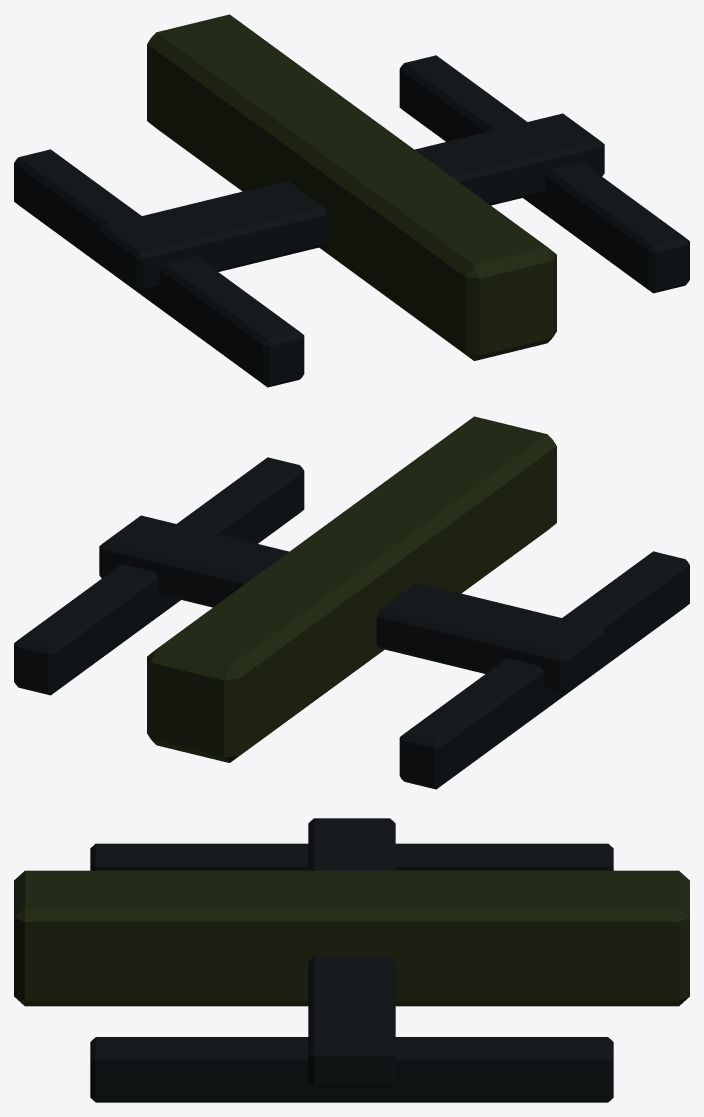
File: BombRackTriple__Rack.obj
The picture shows the model from 3 angles, top to bottom: view 1: azimuth 30°, elevation 25°; view 2: azimuth 150°, elevation 25°; view 3: azimuth 270°, elevation 25°; orthographic projection. The views are drawn at different scales.
Parts seen in each view (by area): view 1: Rack_spine, Release_cross_arm, Release_station_longitudinal_rail, Release_station_longitudinal_rail.002; view 2: Rack_spine, Release_cross_arm, Release_station_longitudinal_rail, Release_station_longitudinal_rail.002; view 3: Rack_spine, Release_station_longitudinal_rail.002, Release_cross_arm, Release_station_longitudinal_rail.
Boxes of the visible parts, bbox=[...] form: Rack_spine: bbox=[147, 14, 556, 360]; Release_cross_arm: bbox=[99, 113, 604, 290]; Release_station_longitudinal_rail: bbox=[14, 149, 304, 387]; Release_station_longitudinal_rail.002: bbox=[399, 55, 689, 293]; Rack_spine: bbox=[147, 416, 556, 762]; Release_cross_arm: bbox=[99, 515, 604, 692]; Release_station_longitudinal_rail: bbox=[399, 551, 689, 789]; Release_station_longitudinal_rail.002: bbox=[14, 457, 304, 695]; Rack_spine: bbox=[14, 870, 689, 1006]; Release_station_longitudinal_rail.002: bbox=[90, 1037, 613, 1102]; Release_cross_arm: bbox=[308, 818, 395, 1088]; Release_station_longitudinal_rail: bbox=[90, 843, 613, 870].
Bounding box in the file's own units: 1.02 × 0.22 × 1.24.
